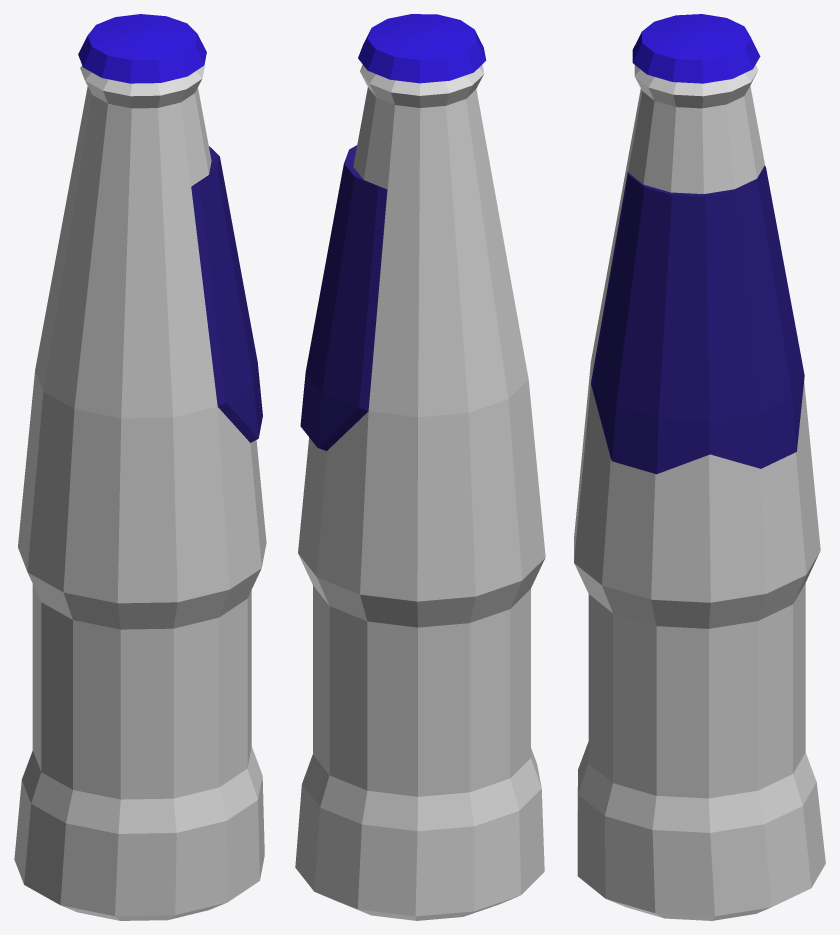
The picture shows the model from 3 angles, left to right: view 1: azimuth 30°, elevation 25°; view 2: azimuth 150°, elevation 25°; view 3: azimuth 270°, elevation 25°; orthographic projection.
Parts seen in each view (by area): view 1: Verre, Etiquette, Capsule; view 2: Verre, Etiquette, Capsule; view 3: Verre, Etiquette, Capsule.
Part boxes in pixels (box(x1,y1,x2,y2)): Verre: box(14, 65, 266, 920); Etiquette: box(191, 146, 262, 442); Capsule: box(78, 14, 206, 83); Verre: box(295, 64, 545, 920); Etiquette: box(300, 145, 387, 450); Capsule: box(358, 14, 486, 83); Verre: box(574, 65, 825, 920); Etiquette: box(591, 165, 804, 474); Capsule: box(632, 14, 760, 83).
Size of the model in its own units: 199 by 742 by 200.
